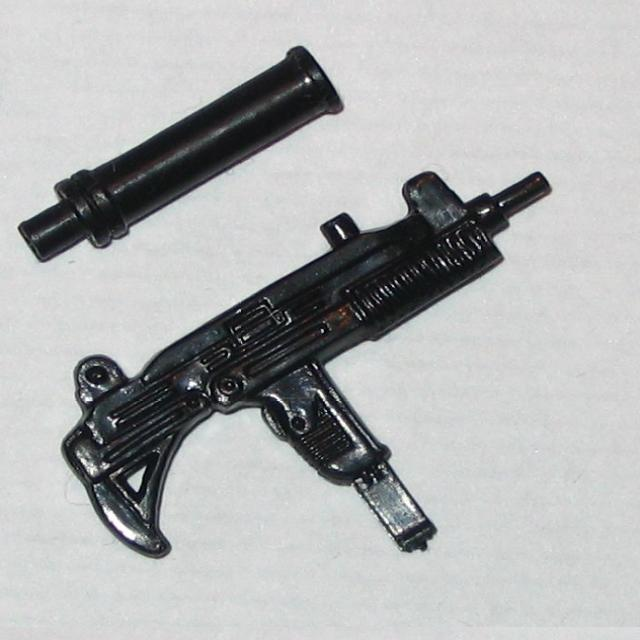SMG: (60, 172, 553, 561)
